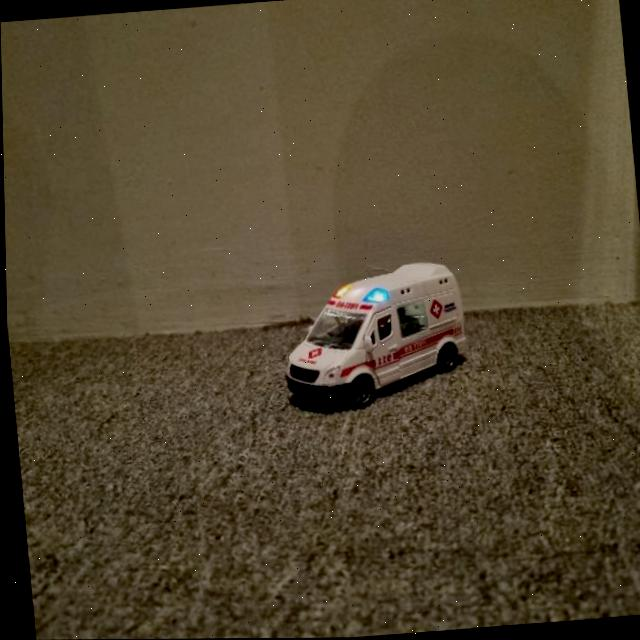emergency: (262, 247, 474, 422)
